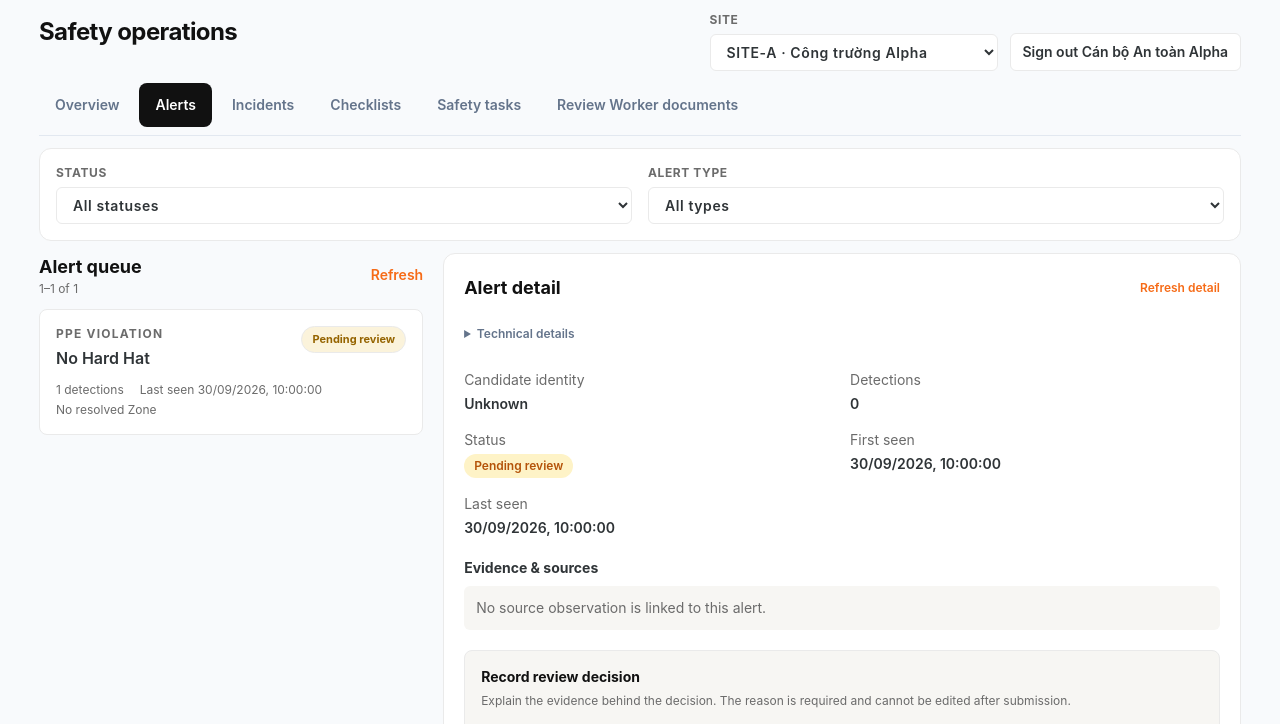
Scenario: SafetyAlertsView Integration (Plan §15 A4 Parent View & Session Scope) › unmounts cached alert details and evicts sensitive child data after a 401 refresh
Click the button "Refresh detail".
click(1180, 288)  # box [1140,280,1220,296]
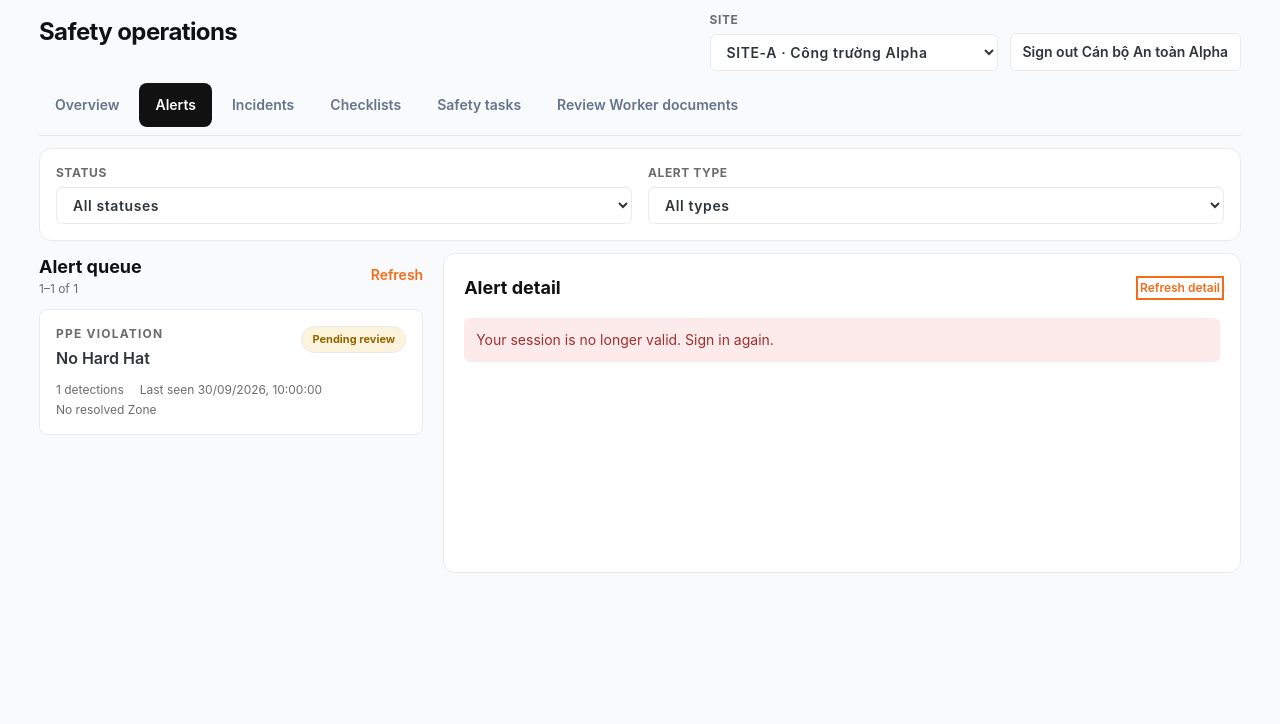
expect the message "Your session is no longer valid. Sign in again." is shown: met, box [464,318,1220,362]
